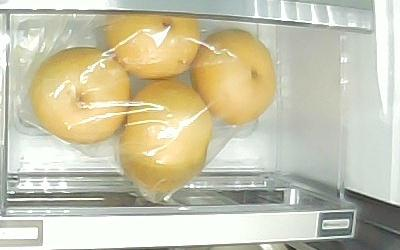pear_vinyl: (120, 79, 212, 192), (30, 47, 132, 145), (191, 29, 277, 126), (105, 13, 198, 77)
